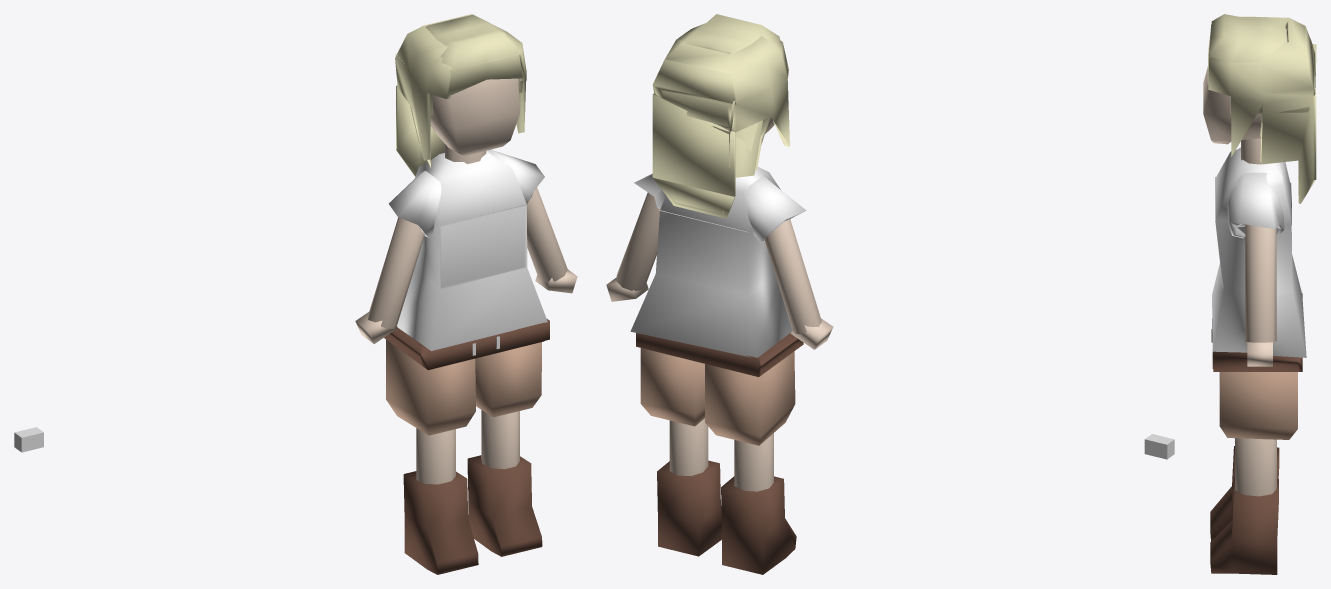
The model's file is female.fbx.
3 renders of one model, left to right at view 1: azimuth 30°, elevation 25°; view 2: azimuth 150°, elevation 25°; view 3: azimuth 270°, elevation 25°, orthographic.
Visible parts, largest first — view 1: Cube, Cube.013, Cube.008, Cube.003, Cube.007, Cube.012, Cube.014, Cube.004, Cylinder.005, Cube.002, Cylinder.006, Cylinder (+3 smaller); view 2: Cube.013, Cube, Cube.003, Cube.008, Cube.007, Cube.004, Cylinder.005, Cube.002, Cylinder.006, Cube.014, Cylinder.003, Cylinder (+1 smaller); view 3: Cube.013, Cube, Cube.004, Cube.007, Cylinder.006, Cube.014, Cylinder.004, Cylinder, Cube.012, Cube.002, Cube.008, Cube.005 (+1 smaller).
Part boxes in pixels (x1,y1,x2,y2): Cube: [397, 149, 547, 350]; Cube.013: [395, 14, 526, 176]; Cube.008: [403, 471, 478, 574]; Cube.003: [386, 340, 475, 435]; Cube.007: [467, 455, 542, 556]; Cube.012: [430, 78, 519, 155]; Cube.014: [425, 14, 522, 131]; Cube.004: [475, 342, 541, 417]; Cylinder.005: [368, 217, 424, 328]; Cube.002: [384, 319, 549, 370]; Cylinder.006: [527, 187, 567, 282]; Cylinder: [481, 410, 519, 469]; Cube.013: [652, 29, 789, 218]; Cube: [630, 167, 791, 357]; Cube.003: [705, 351, 795, 445]; Cube.008: [721, 476, 796, 574]; Cube.007: [657, 460, 721, 556]; Cube.004: [640, 348, 704, 426]; Cylinder.005: [764, 219, 821, 333]; Cube.002: [636, 333, 803, 376]; Cylinder.006: [616, 192, 659, 290]; Cube.014: [678, 14, 779, 54]; Cylinder.003: [746, 175, 806, 242]; Cylinder: [669, 418, 708, 475]; Cube.013: [1208, 16, 1316, 203]; Cube: [1212, 147, 1306, 357]; Cube.004: [1219, 372, 1297, 439]; Cube.007: [1210, 477, 1278, 574]; Cylinder.006: [1245, 224, 1276, 342]; Cube.014: [1207, 14, 1309, 136]; Cylinder.004: [1227, 172, 1284, 238]; Cylinder: [1235, 438, 1276, 496]; Cube.012: [1203, 28, 1286, 144]; Cube.002: [1212, 293, 1302, 371]; Cube.008: [1210, 446, 1279, 541]; Cube.005: [1247, 342, 1272, 366].
Bounding box in the file's own units: 380 × 341 × 66.6.
